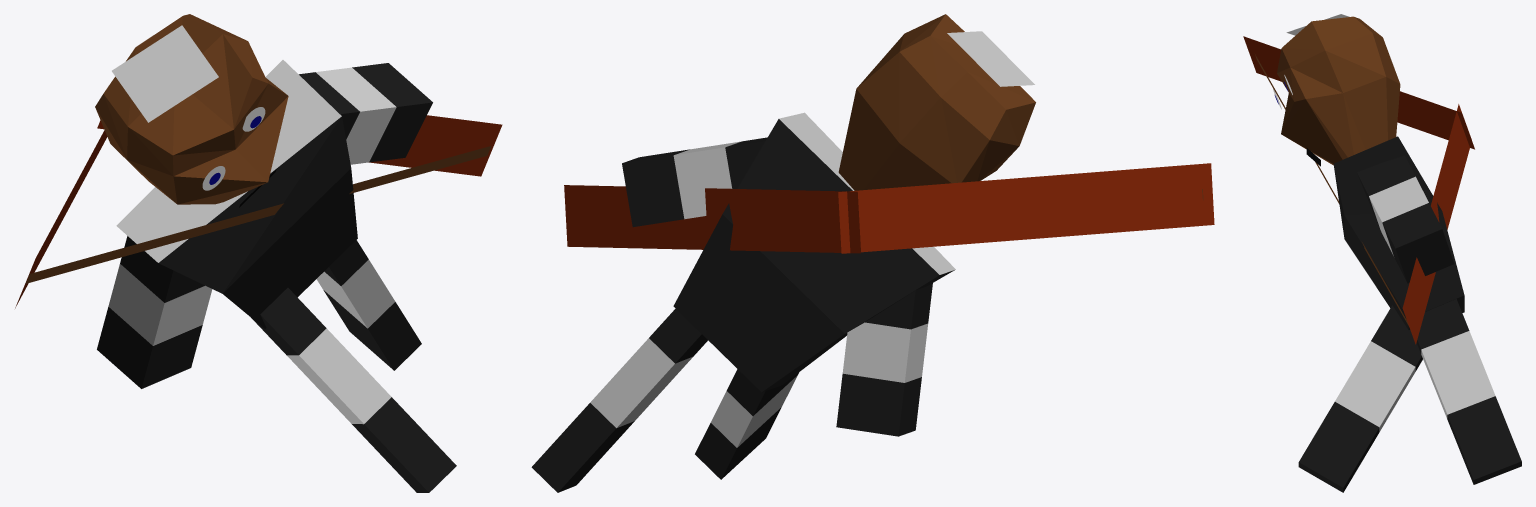
The model's file is heavyarcher2d.obj.
3 renders of one model, left to right at view 1: azimuth 30°, elevation 25°; view 2: azimuth 150°, elevation 25°; view 3: azimuth 270°, elevation 25°, orthographic. The views are drawn at different scales.
Visible parts, largest first — view 1: Cube.001, Cube, Cube.004, Cube.003, Cube.002, Cube.005, Plane.004_Plane.001, Plane.001_Plane.002, Plane.003_Plane.004, Plane.002_Plane.003; view 2: Cube.001, Plane.002_Plane.003, Cube, Plane.001_Plane.002, Cube.003, Cube.005, Cube.002, Cube.004, Plane.004_Plane.001; view 3: Cube, Cube.004, Cube.005, Cube.001, Cube.002, Plane.001_Plane.002, Plane.002_Plane.003, Plane.003_Plane.004.
Boxes of the visible parts, box(x1,y1,x2,y2) form: Cube.001: box(116, 60, 357, 328); Cube: box(95, 14, 288, 204); Cube.004: box(251, 288, 456, 492); Cube.003: box(97, 236, 212, 388); Cube.002: box(299, 63, 432, 164); Cube.005: box(316, 240, 421, 370); Plane.004_Plane.001: box(112, 25, 218, 122); Plane.001_Plane.002: box(97, 115, 502, 176); Plane.003_Plane.004: box(26, 146, 490, 283); Plane.002_Plane.003: box(15, 130, 107, 308); Cube.001: box(673, 112, 955, 392); Plane.002_Plane.003: box(838, 163, 1214, 253); Cube: box(838, 14, 1035, 190); Plane.001_Plane.002: box(564, 185, 860, 253); Cube.003: box(836, 283, 932, 436); Cube.005: box(531, 308, 707, 492); Cube.002: box(622, 137, 767, 227); Cube.004: box(695, 369, 798, 479); Plane.004_Plane.001: box(947, 31, 1034, 86); Cube: box(1277, 16, 1400, 165); Cube.004: box(1298, 305, 1422, 492); Cube.005: box(1416, 299, 1521, 484); Cube.001: box(1333, 136, 1464, 329); Cube.002: box(1357, 155, 1454, 283); Plane.001_Plane.002: box(1402, 104, 1471, 344); Plane.002_Plane.003: box(1243, 36, 1474, 149); Plane.003_Plane.004: box(1255, 54, 1408, 325).
Size of the model in its own units: 6 by 5.16 by 3.31.
